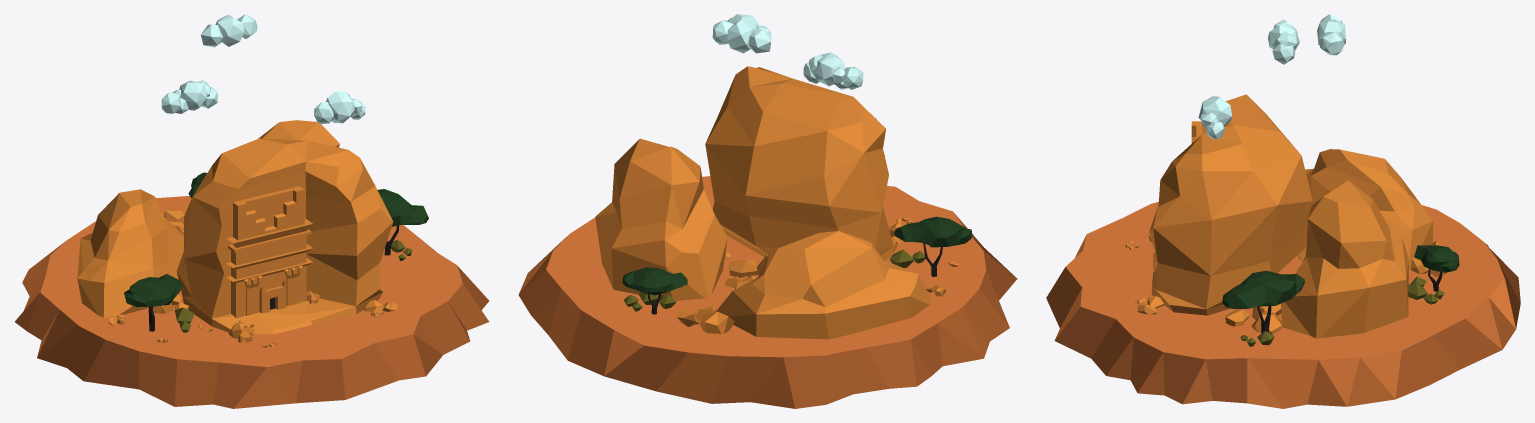
File: madain_saleh.obj
3 views of the same model, side by side, from view 1: azimuth 30°, elevation 25°; view 2: azimuth 150°, elevation 25°; view 3: azimuth 270°, elevation 25° (orthographic). The views are drawn at different scales.
Visible parts, largest first — view 1: Madain_Saleh1:polySurface3045 Madain_Saleh1:group25, Madain_Saleh1:group25 Madain_Saleh1:polySurface3047 Madain_Saleh, Madain_Saleh1:group25 Madain_Saleh1:polySurface3052 Madain_Saleh, Madain_Saleh1:polySurface3049, Madain_Saleh1:group25 Madain_Saleh1:pSphere45, polySurface4, polySurface19, Madain_Saleh1:group25 Madain_Saleh1:pSphere49 Madain_Saleh1:poly, polySurface13, Madain_Saleh1:group25 Madain_Saleh1:group27 Madain_Saleh1:group2; view 2: Madain_Saleh1:polySurface3045 Madain_Saleh1:group25, Madain_Saleh1:group25 Madain_Saleh1:polySurface3047 Madain_Saleh, Madain_Saleh1:group25 Madain_Saleh1:polySurface3052 Madain_Saleh, Madain_Saleh1:group25 Madain_Saleh1:pSphere49 Madain_Saleh1:poly, Madain_Saleh1:group25 Madain_Saleh1:pSphere45, polySurface4, polySurface19, Madain_Saleh1:group25 Madain_Saleh1:group26 Madain_Saleh1:group2, Madain_Saleh1:group29 Madain_Saleh1:pSphere76, Madain_Saleh1:group29 Madain_Saleh1:pSphere72; view 3: Madain_Saleh1:polySurface3045 Madain_Saleh1:group25, Madain_Saleh1:group25 Madain_Saleh1:polySurface3047 Madain_Saleh, Madain_Saleh1:group25 Madain_Saleh1:pSphere49 Madain_Saleh1:poly, Madain_Saleh1:group25 Madain_Saleh1:polySurface3052 Madain_Saleh, Madain_Saleh1:group25 Madain_Saleh1:group27 Madain_Saleh1:group2, polySurface13, polySurface4, Madain_Saleh1:group25 Madain_Saleh1:group26 Madain_Saleh1:group2, polySurface19.
Part boxes in pixels (x1,y1,x2,y2): Madain_Saleh1:polySurface3045 Madain_Saleh1:group25: [15, 196, 489, 408]; Madain_Saleh1:group25 Madain_Saleh1:polySurface3047 Madain_Saleh: [176, 138, 393, 334]; Madain_Saleh1:group25 Madain_Saleh1:polySurface3052 Madain_Saleh: [77, 189, 183, 317]; Madain_Saleh1:polySurface3049: [226, 186, 313, 318]; Madain_Saleh1:group25 Madain_Saleh1:pSphere45: [124, 274, 182, 307]; polySurface4: [161, 80, 217, 113]; polySurface19: [201, 14, 257, 47]; Madain_Saleh1:group25 Madain_Saleh1:pSphere49 Madain_Saleh1:poly: [258, 120, 339, 147]; polySurface13: [314, 91, 365, 124]; Madain_Saleh1:group25 Madain_Saleh1:group27 Madain_Saleh1:group2: [377, 189, 428, 226]; Madain_Saleh1:polySurface3045 Madain_Saleh1:group25: [518, 176, 1017, 408]; Madain_Saleh1:group25 Madain_Saleh1:polySurface3047 Madain_Saleh: [705, 66, 898, 260]; Madain_Saleh1:group25 Madain_Saleh1:polySurface3052 Madain_Saleh: [716, 231, 931, 339]; Madain_Saleh1:group25 Madain_Saleh1:pSphere49 Madain_Saleh1:poly: [595, 138, 727, 300]; Madain_Saleh1:group25 Madain_Saleh1:pSphere45: [894, 216, 972, 247]; polySurface4: [803, 52, 863, 89]; polySurface19: [712, 19, 771, 53]; Madain_Saleh1:group25 Madain_Saleh1:group26 Madain_Saleh1:group2: [622, 267, 687, 295]; Madain_Saleh1:group29 Madain_Saleh1:pSphere76: [700, 311, 734, 333]; Madain_Saleh1:group29 Madain_Saleh1:pSphere72: [729, 259, 758, 277]; Madain_Saleh1:polySurface3045 Madain_Saleh1:group25: [1046, 201, 1520, 408]; Madain_Saleh1:group25 Madain_Saleh1:polySurface3047 Madain_Saleh: [1149, 94, 1312, 315]; Madain_Saleh1:group25 Madain_Saleh1:pSphere49 Madain_Saleh1:poly: [1281, 180, 1408, 338]; Madain_Saleh1:group25 Madain_Saleh1:polySurface3052 Madain_Saleh: [1305, 149, 1432, 268]; Madain_Saleh1:group25 Madain_Saleh1:group27 Madain_Saleh1:group2: [1222, 270, 1304, 308]; polySurface13: [1198, 96, 1232, 139]; polySurface4: [1268, 19, 1299, 64]; Madain_Saleh1:group25 Madain_Saleh1:group26 Madain_Saleh1:group2: [1414, 245, 1459, 272]; polySurface19: [1317, 14, 1346, 55].
Size of what is drawn, in the model's own units: 17.39 by 11.33 by 16.89.
